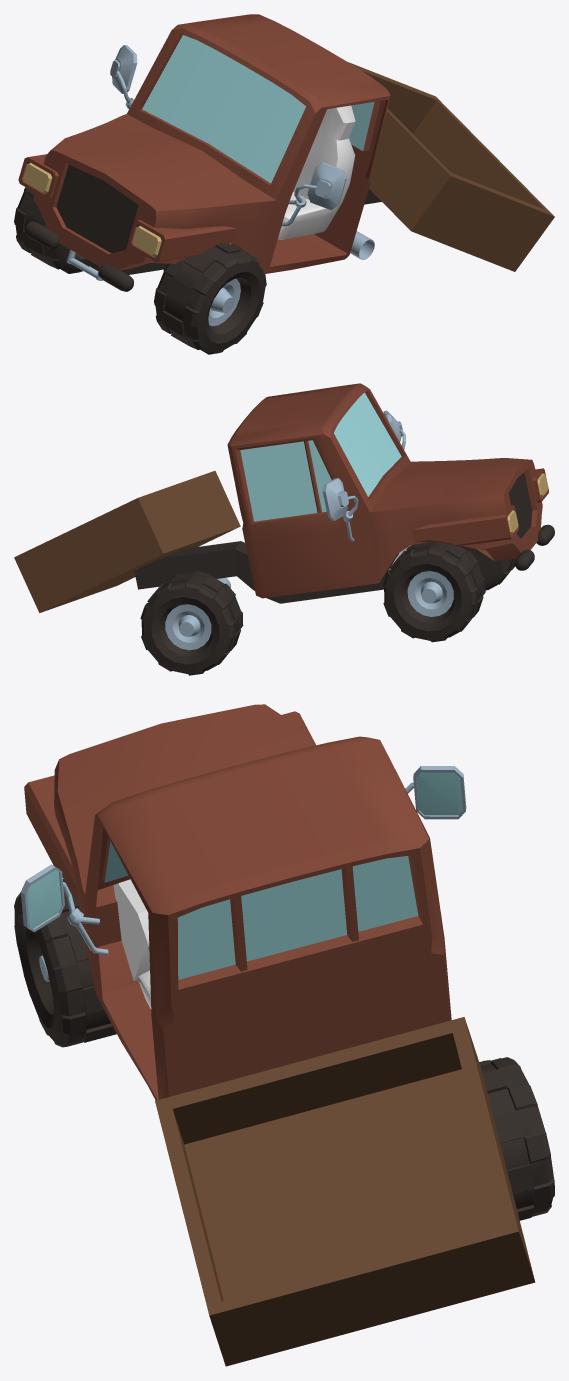
The model's file is WreckedTruck.fbx.
3 views of the same model, one above another, from view 1: azimuth 30°, elevation 25°; view 2: azimuth 150°, elevation 25°; view 3: azimuth 270°, elevation 25° (orthographic). The views are drawn at different scales.
Visible parts, largest first — view 1: TruckBody.001, TruckBody.003, Tire_LeftFront.002, Cube.008, Tire_RightFront.001, Tires_Rear.001; view 2: TruckBody.001, TruckBody.003, Tires_Rear.001, Tire_RightFront.001; view 3: TruckBody.001, TruckBody.003, Tire_LeftFront.002, Tires_Rear.001, Cube.017.
Part boxes in pixels (x1=…): TruckBody.001: x1=18, y1=14, x2=390, y2=291; TruckBody.003: x1=348, y1=62, x2=554, y2=271; Tire_LeftFront.002: x1=154, y1=243, x2=266, y2=354; Cube.008: x1=277, y1=105, x2=355, y2=239; Tire_RightFront.001: x1=14, y1=187, x2=88, y2=273; Tires_Rear.001: x1=350, y1=231, x2=374, y2=259; TruckBody.001: x1=134, y1=383, x2=554, y2=603; TruckBody.003: x1=14, y1=471, x2=240, y2=612; Tires_Rear.001: x1=140, y1=571, x2=243, y2=675; Tire_RightFront.001: x1=383, y1=542, x2=485, y2=642; TruckBody.001: x1=20, y1=704, x2=466, y2=1100; TruckBody.003: x1=155, y1=1017, x2=535, y2=1366; Tire_LeftFront.002: x1=14, y1=879, x2=116, y2=1047; Tires_Rear.001: x1=479, y1=1057, x2=554, y2=1220; Cube.017: x1=113, y1=879, x2=149, y2=981.
Size of the model in its own units: 646 by 395 by 341.
